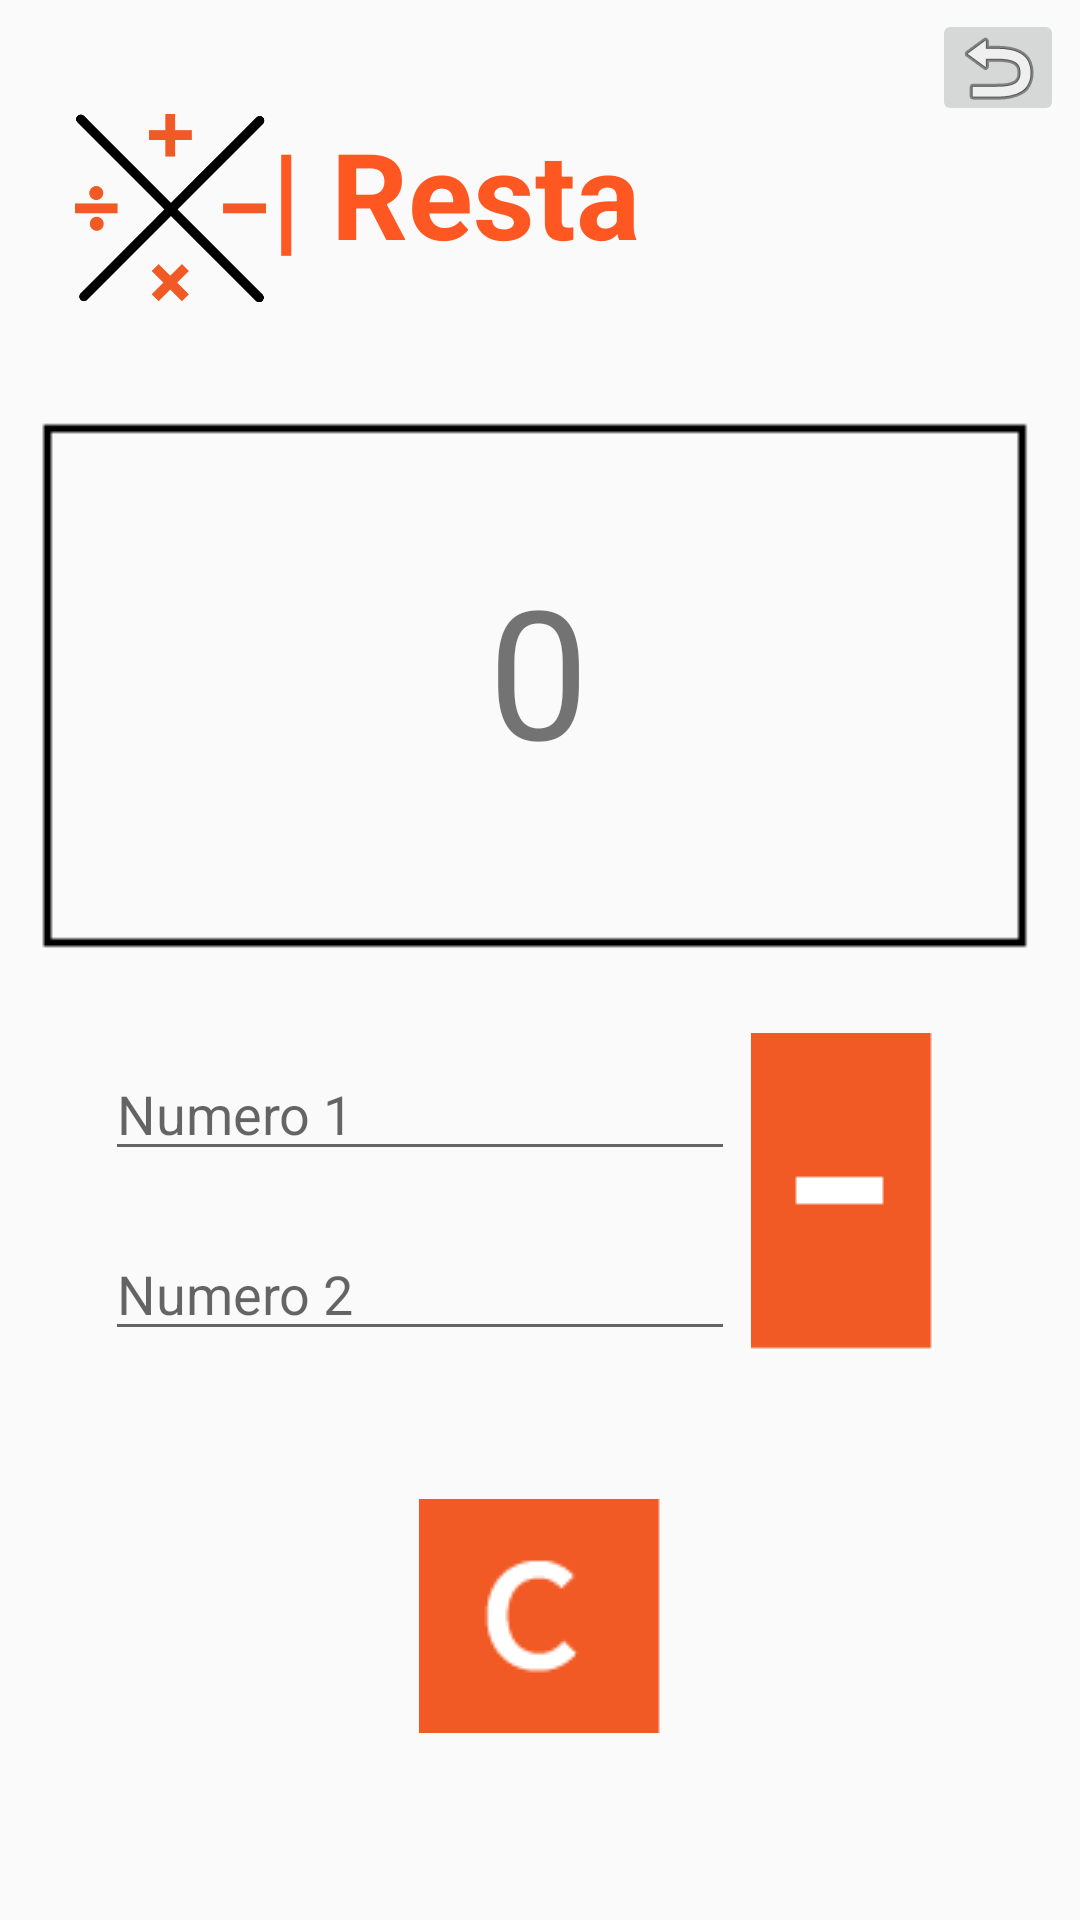

Where to tap for icons on this 1080 x 1920 app screen, as [x,y]:
borrado: [539,1616]
opr resta: [841,1191]
revert: [998,67]
